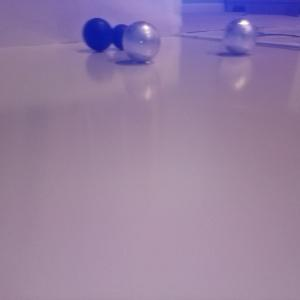alive_ball: (123, 21, 161, 62), (222, 18, 256, 54)
dead_ball: (83, 18, 114, 51), (111, 24, 134, 50)
